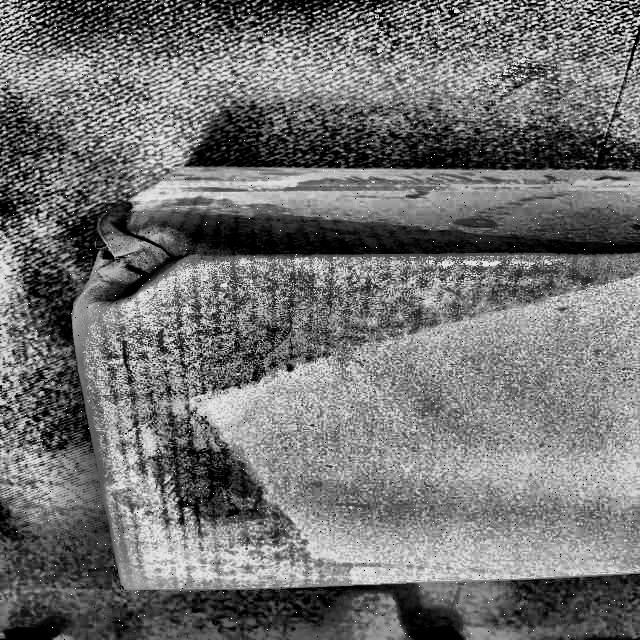box: (58, 148, 639, 607)
wet: (83, 201, 639, 588)
